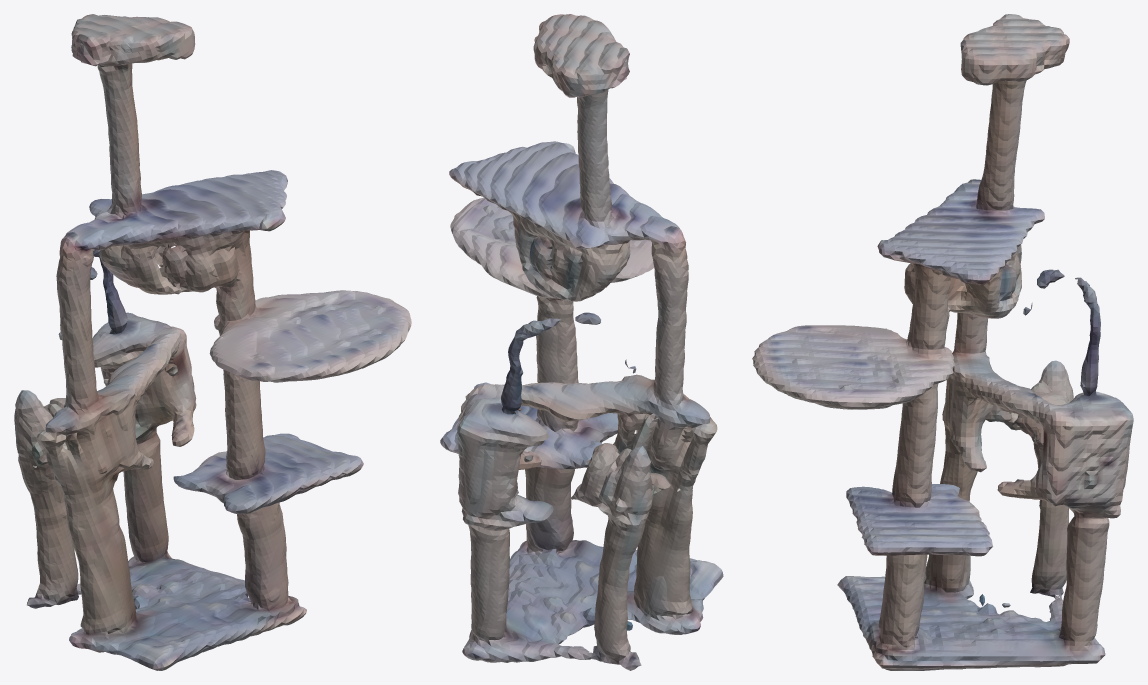
3 renders of one model, left to right at view 1: azimuth 30°, elevation 25°; view 2: azimuth 150°, elevation 25°; view 3: azimuth 270°, elevation 25°, orthographic. The views are drawn at different scales.
Parts seen in each view (by area): view 1: world; view 2: world; view 3: world.
Part boxes in pixels (x1,y1,x2,y2): world: (14,14,411,670); world: (440,14,723,670); world: (752,14,1133,670).
Bounding box in the file's own units: 0.6352 × 1.18 × 0.6827.
